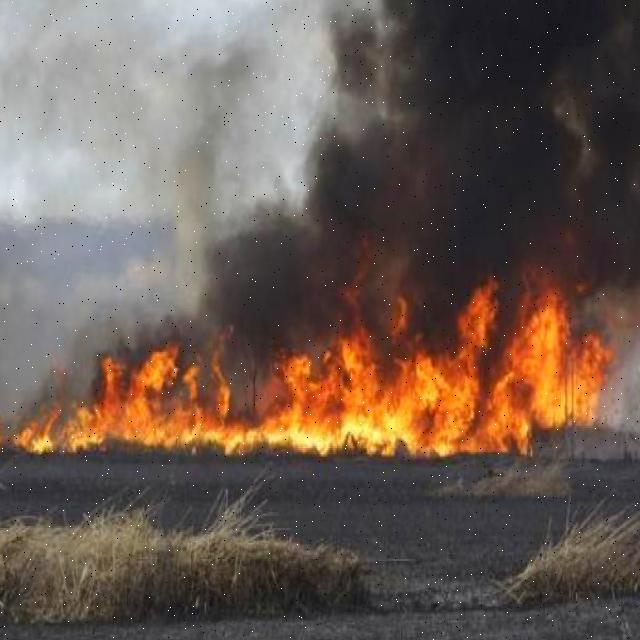fire: (0, 301, 610, 460)
smoke: (249, 0, 640, 302)
